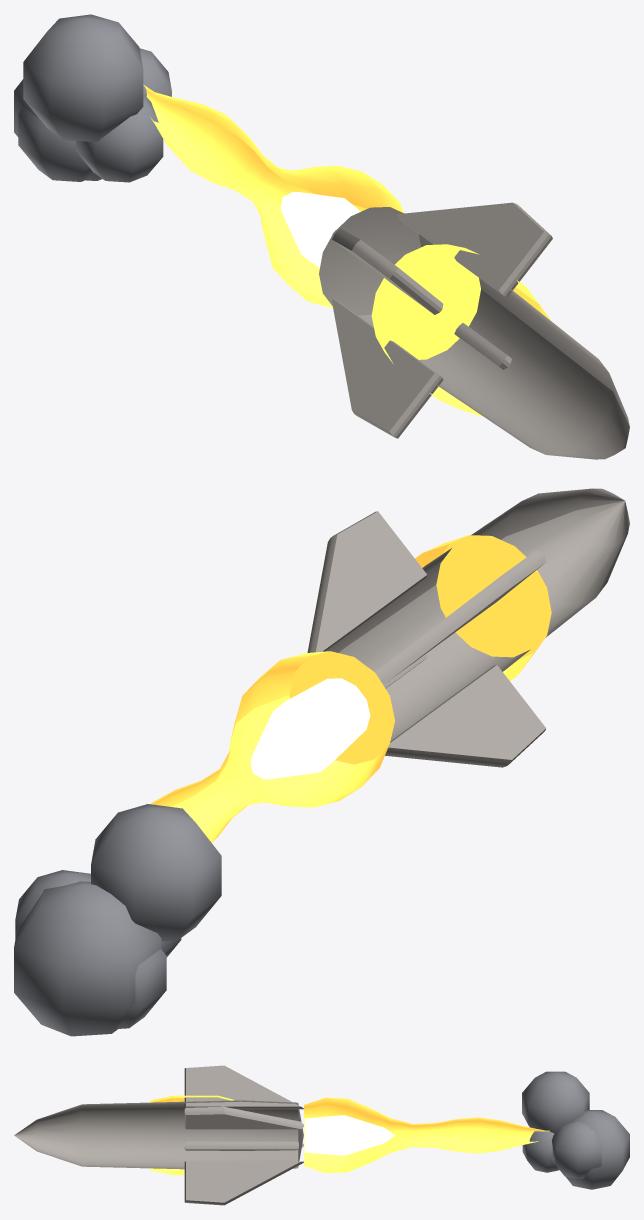
The model's file is vfx-mesh-library-missile-fin-trail-c0a18e99__21869.glb.
The picture shows the model from 3 angles, top to bottom: view 1: azimuth 30°, elevation 25°; view 2: azimuth 150°, elevation 25°; view 3: azimuth 270°, elevation 25°; orthographic projection. The views are drawn at different scales.
Visible parts, largest first — view 1: missile-fin-trail; view 2: missile-fin-trail; view 3: missile-fin-trail.
Part boxes in pixels (x1,y1,x2,y2): missile-fin-trail: (14,14,629,459); missile-fin-trail: (14,488,629,1036); missile-fin-trail: (14,1065,629,1205).
Bounding box in the file's own units: 0.2111 × 0.207 × 1.08.
